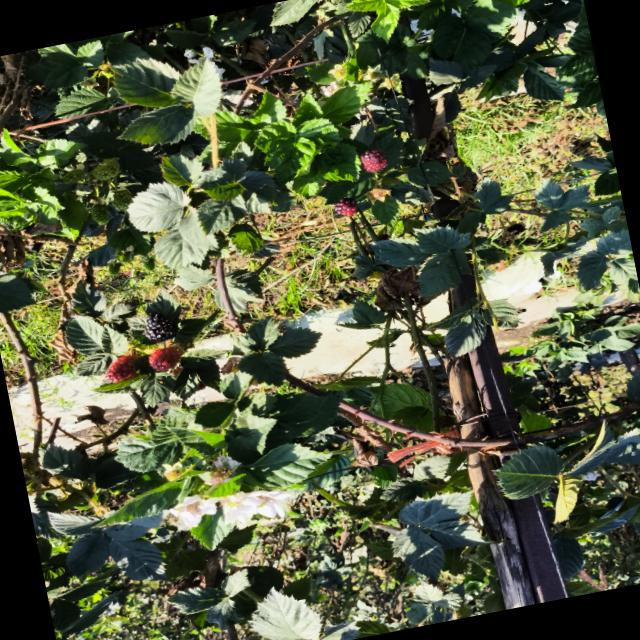flor: (169, 495, 218, 530), (220, 491, 262, 528), (253, 490, 294, 518)
maduro: (144, 312, 178, 342)
marron: (360, 149, 387, 172), (334, 198, 358, 217)
naranja: (105, 355, 136, 382), (149, 347, 181, 371)
